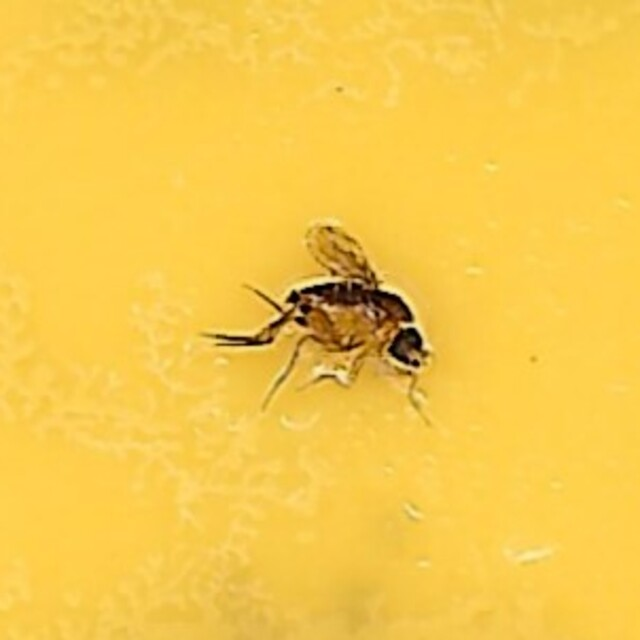Brachycera: (212, 225, 428, 415)
